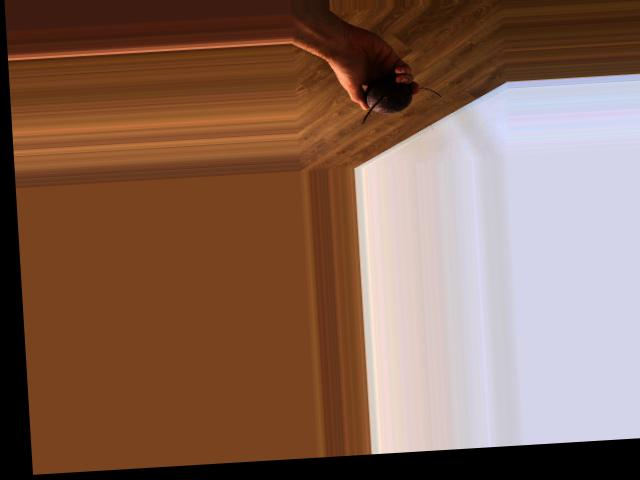beet: (360, 73, 443, 123)
